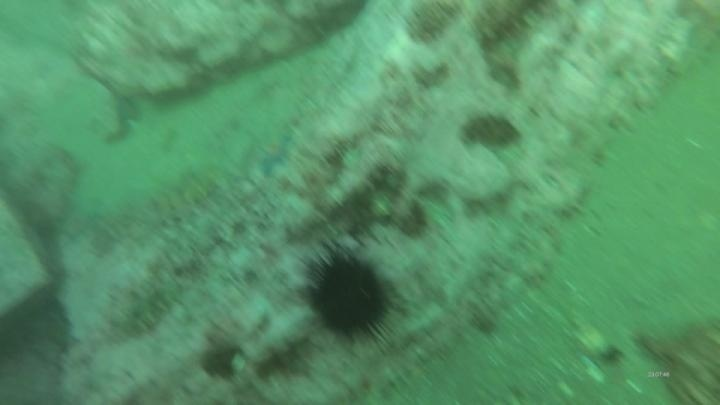echinus: (300, 243, 400, 347)
holothurian: (146, 158, 233, 226), (105, 274, 185, 340)
starfish: (252, 128, 297, 180)
